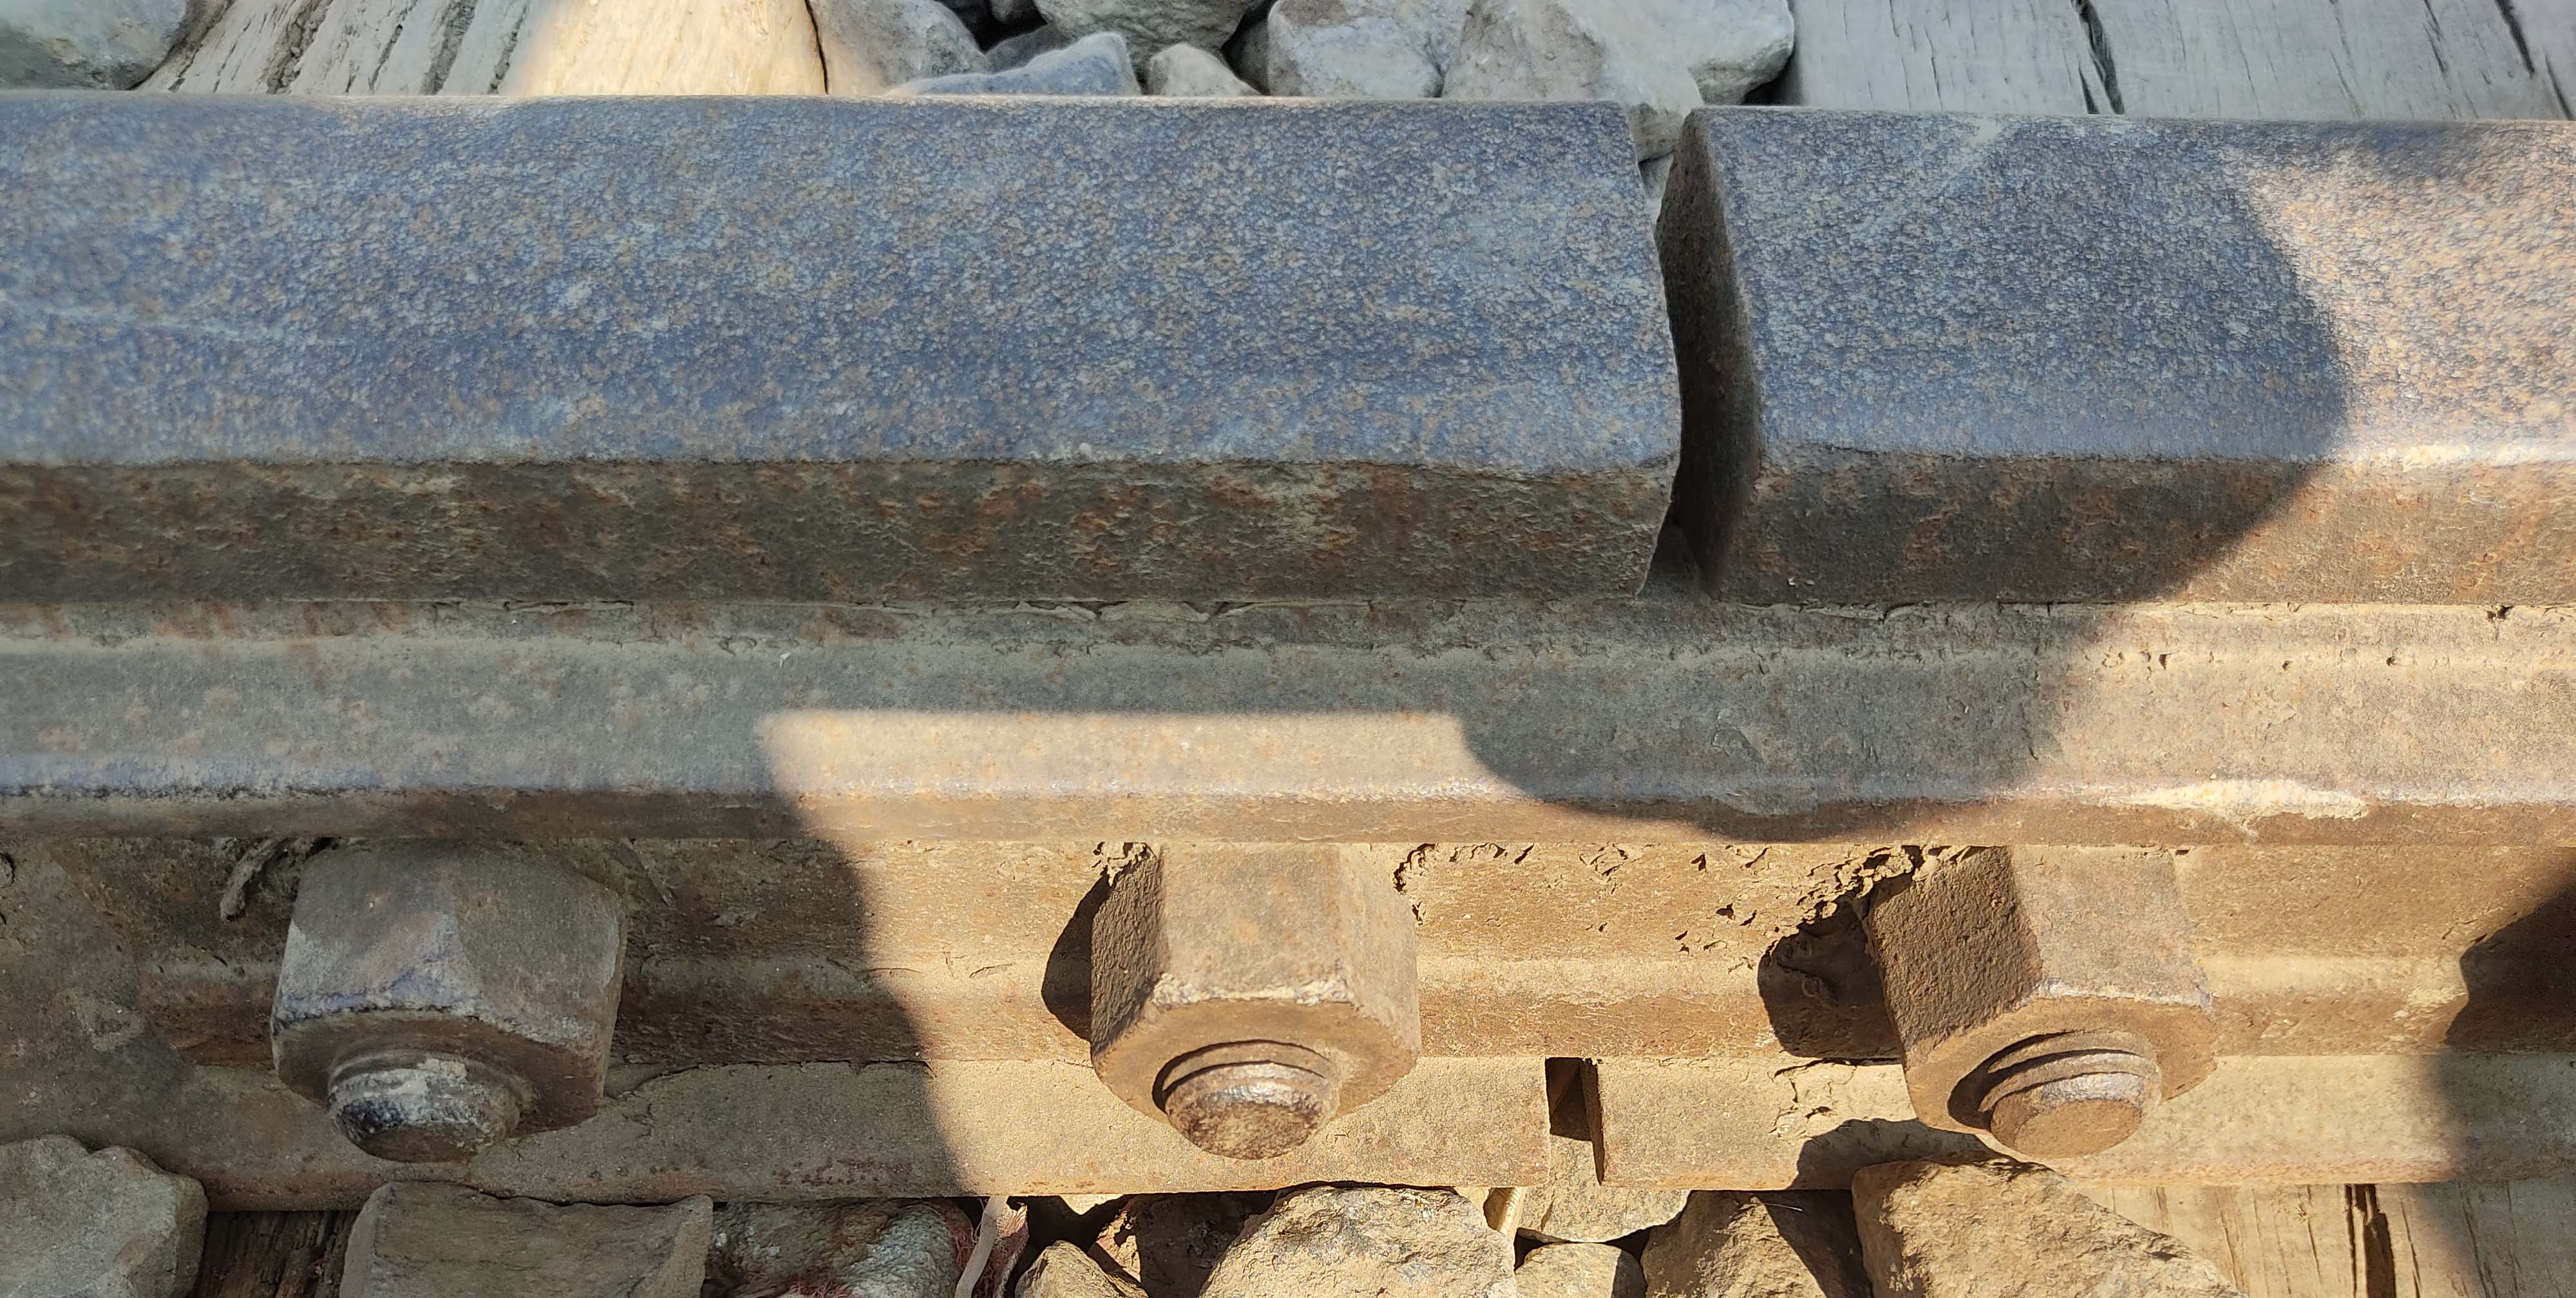error2: (1519, 38, 1868, 654)
